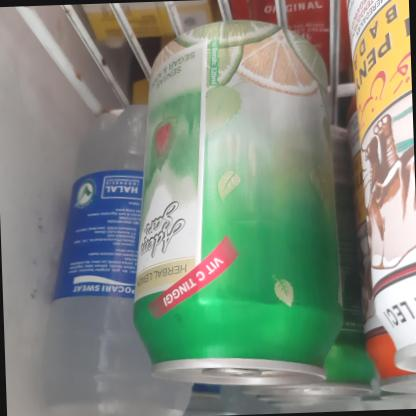alumunium_can: (117, 0, 352, 410)
